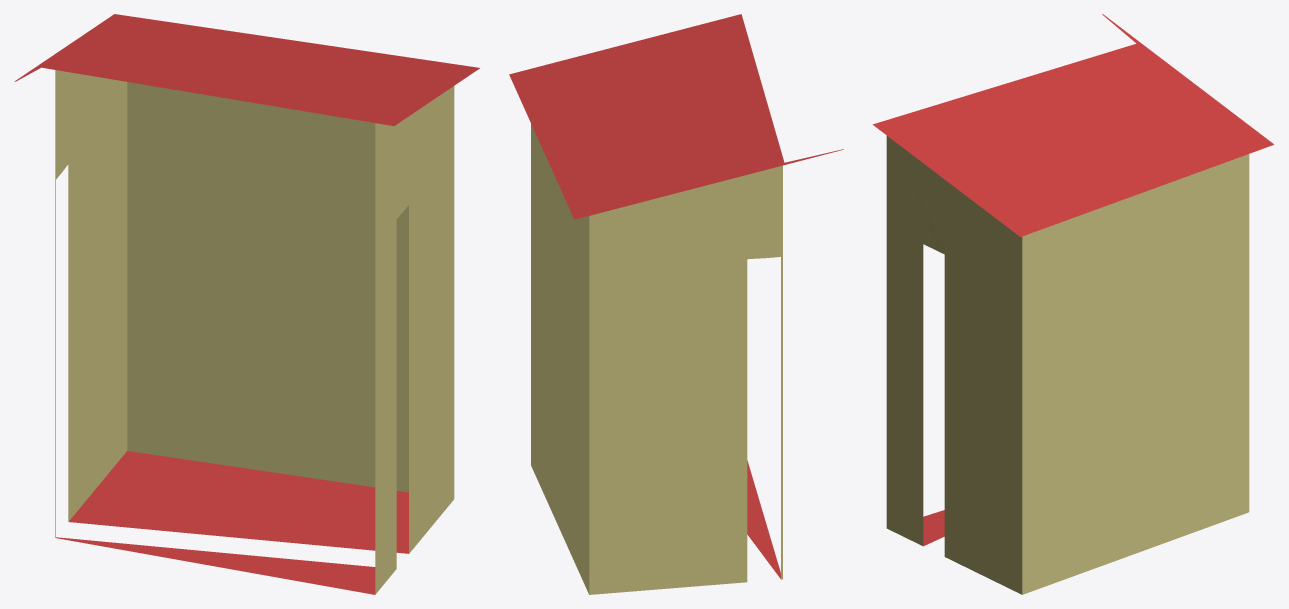
3 renders of one model, left to right at view 1: azimuth 30°, elevation 25°; view 2: azimuth 150°, elevation 25°; view 3: azimuth 270°, elevation 25°, orthographic. The views are drawn at different scales.
Size of the model in its own units: 11.72 by 11.27 by 12.83.
